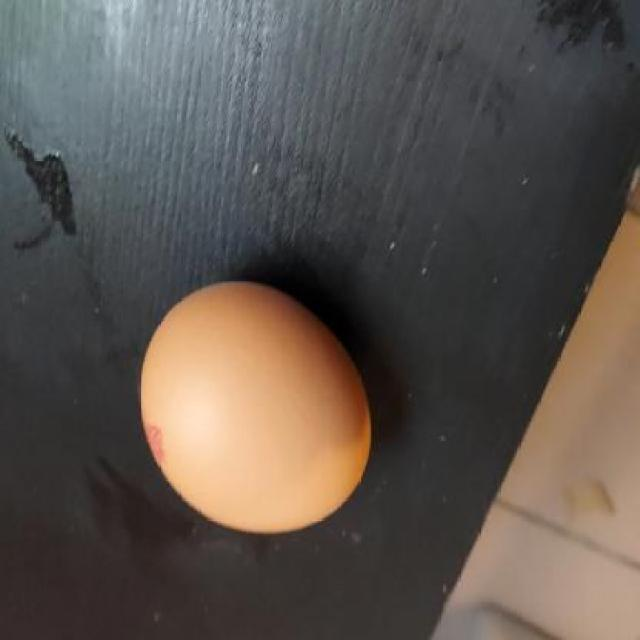biodegradable: (136, 278, 372, 536)
